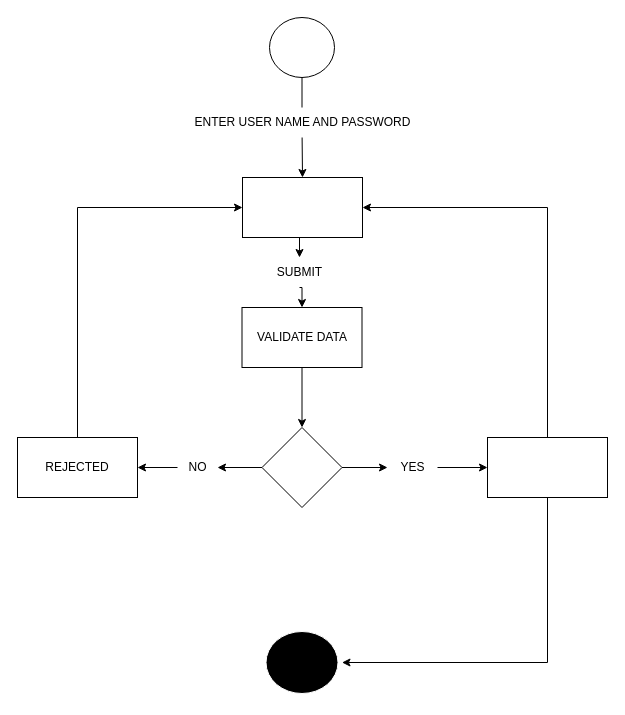
Some shapes in this 625 by 715 pixel diagram are drawn without their labels. The box of each missing label's shape, as (x1, y1, x2, y2) in pixels:
ACCEPTED: (486, 436, 608, 498)
GET DETAILS: (242, 176, 362, 238)
